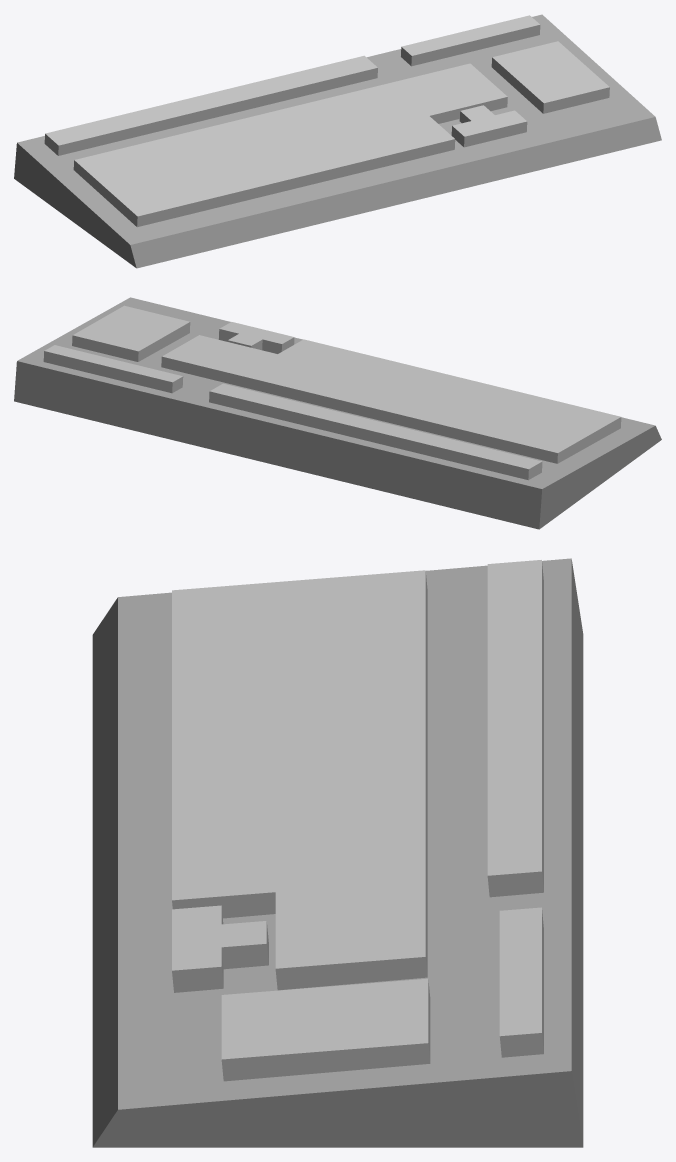
The model's file is PC Keyboard.fbx.
3 views of the same model, one above another, from view 1: azimuth 30°, elevation 25°; view 2: azimuth 150°, elevation 25°; view 3: azimuth 270°, elevation 25° (orthographic). The views are drawn at different scales.
Visible parts, largest first — view 1: PC Keyboard; view 2: PC Keyboard; view 3: PC Keyboard.
Part boxes in pixels (box(x1,y1,x2,y2)): PC Keyboard: box(14, 14, 661, 268); PC Keyboard: box(14, 297, 661, 529); PC Keyboard: box(92, 558, 583, 1147).
Size of the model in its own units: 42.02 by 3.64 by 17.
